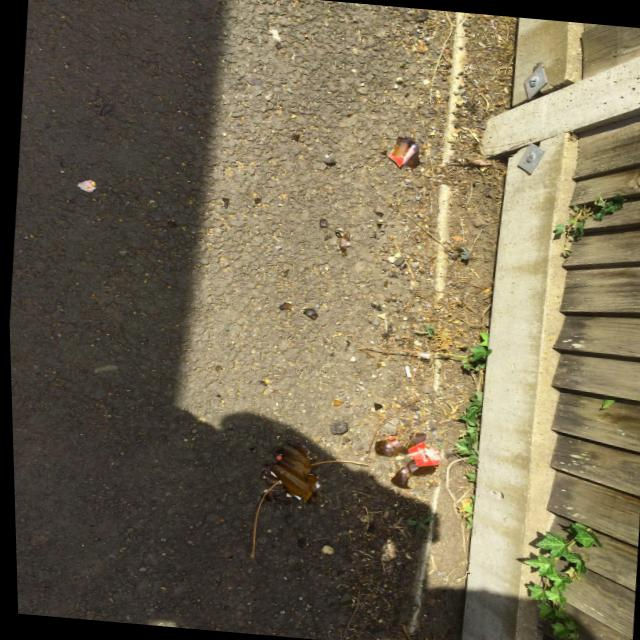Bottle-Glass: (256, 433, 330, 505), (365, 421, 429, 458), (381, 452, 427, 496)
